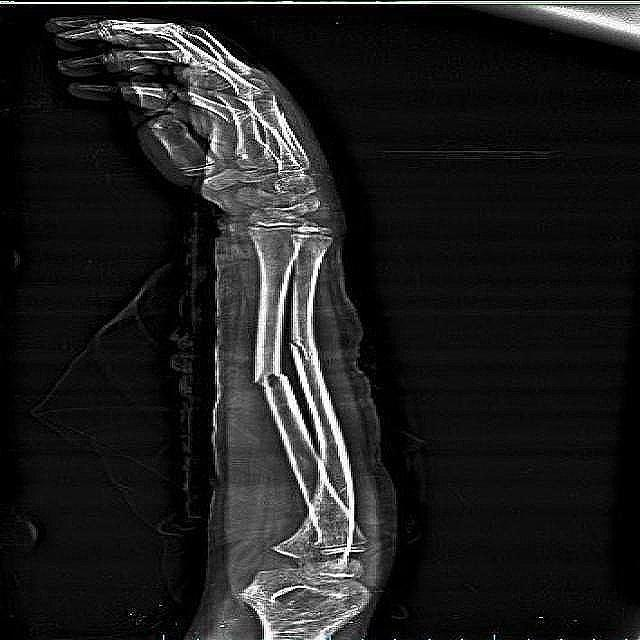bone: (268, 304, 344, 376), (236, 348, 290, 427)
